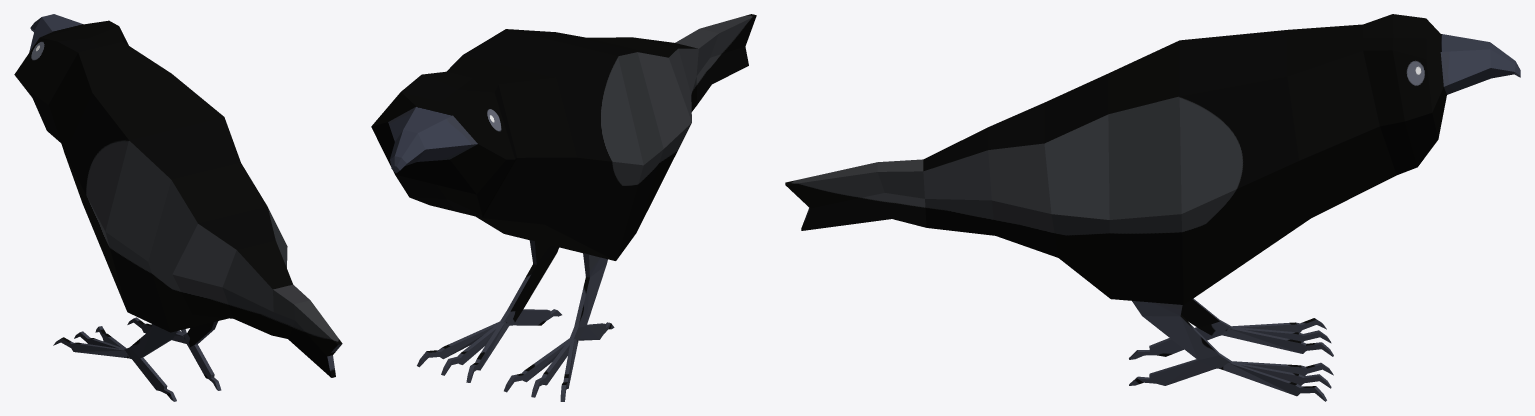
Rendered from kranklys.glb.
The picture shows the model from 3 angles, left to right: view 1: azimuth 30°, elevation 25°; view 2: azimuth 150°, elevation 25°; view 3: azimuth 270°, elevation 25°; orthographic projection. The views are drawn at different scales.
Visible parts, largest first — view 1: Plane; view 2: Plane; view 3: Plane.
Part boxes in pixels (x1,y1,x2,y2): Plane: [14, 14, 342, 401]; Plane: [371, 14, 756, 401]; Plane: [785, 14, 1520, 401].
Bounding box in the file's own units: 1.06 × 2.03 × 3.98.
1 material, 1 textured.
